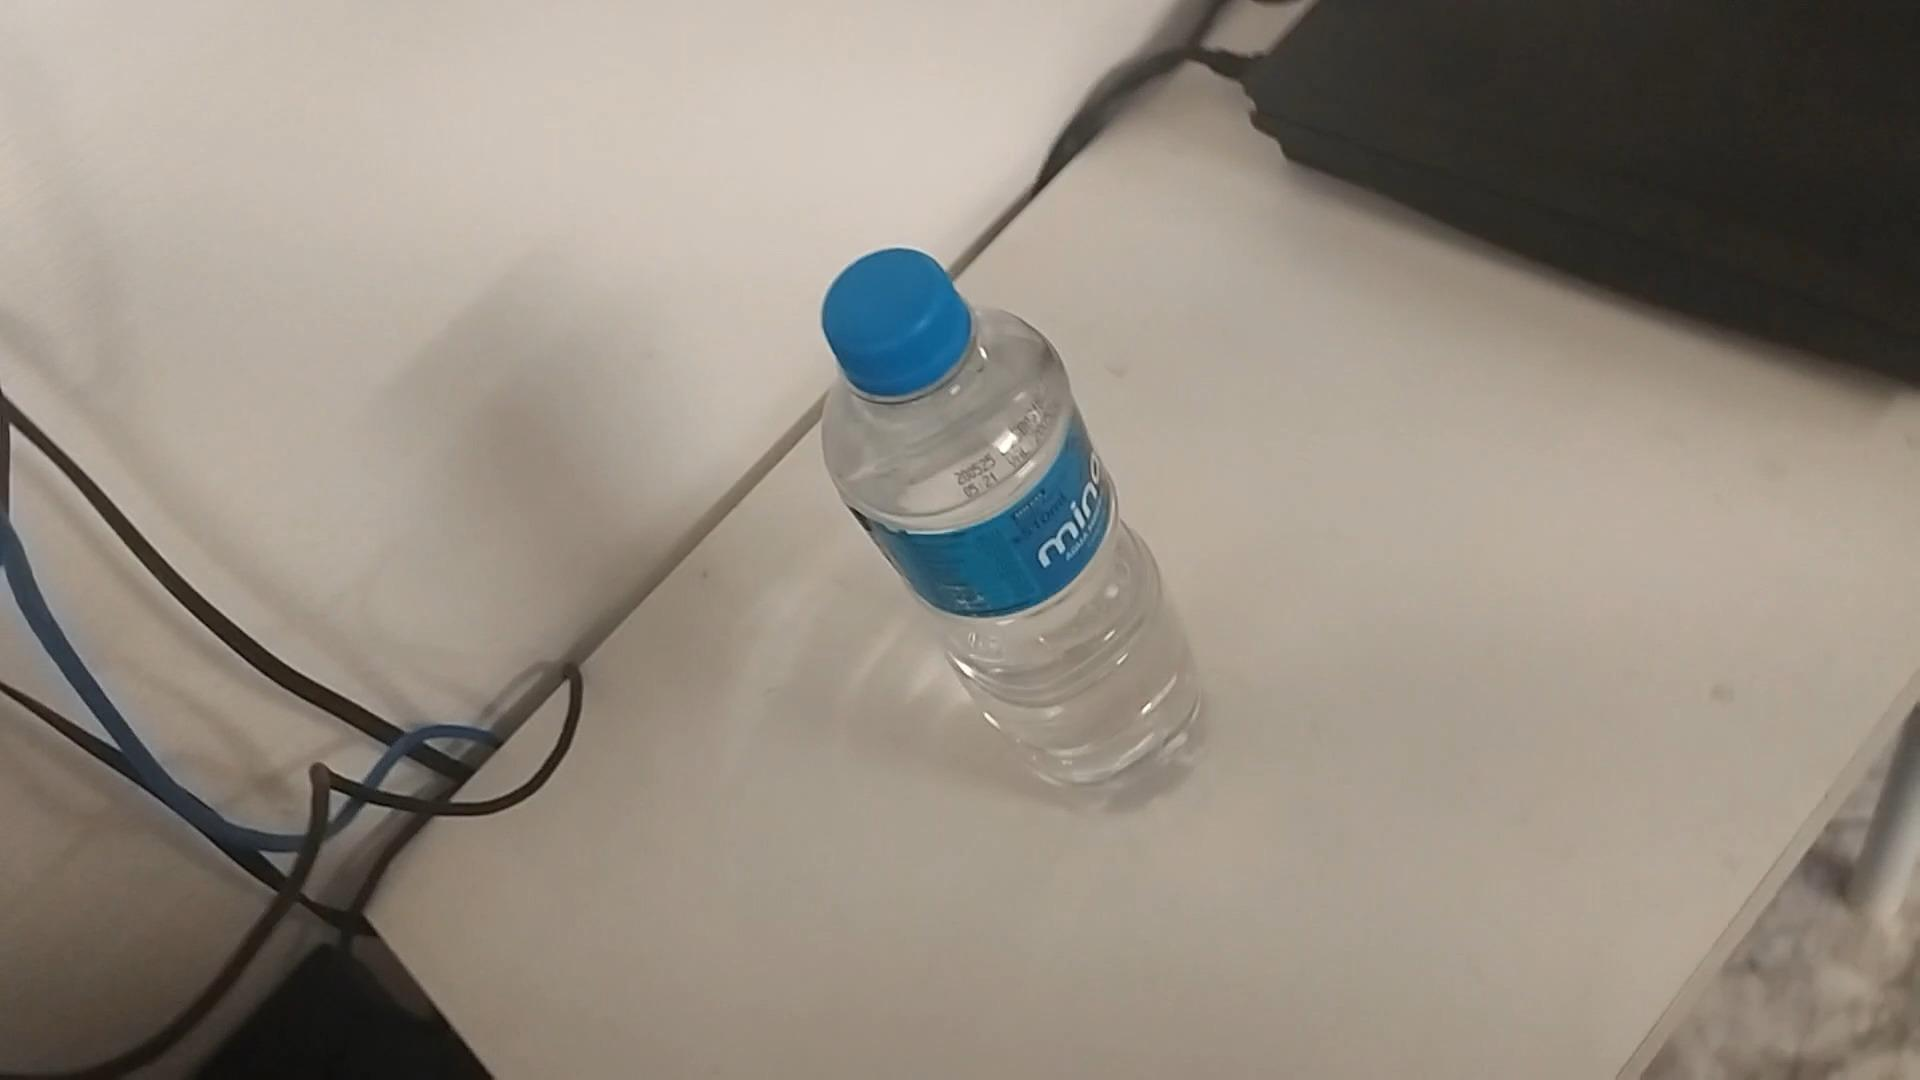agua: (816, 248, 1183, 789)
